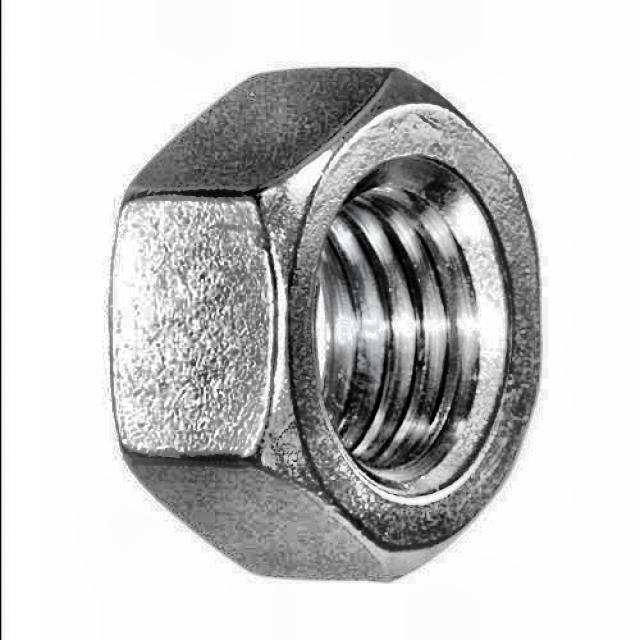Nut Detection - v1 Nut Dataset: (90, 33, 574, 594)
